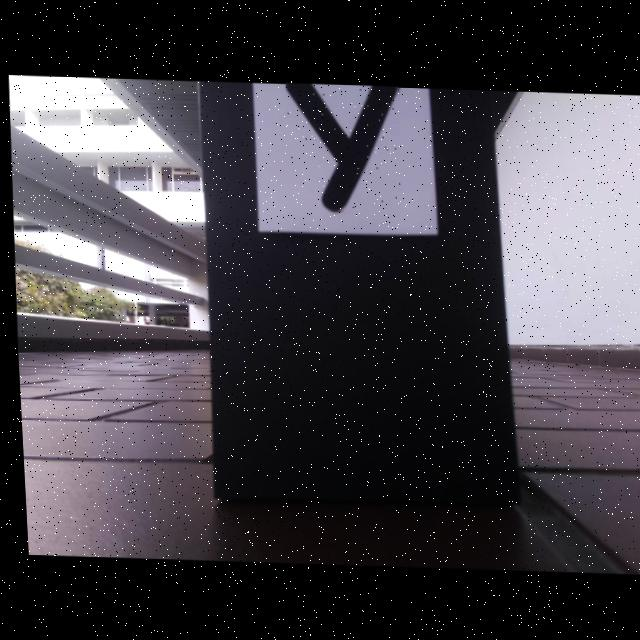Y: (285, 83, 397, 209)
